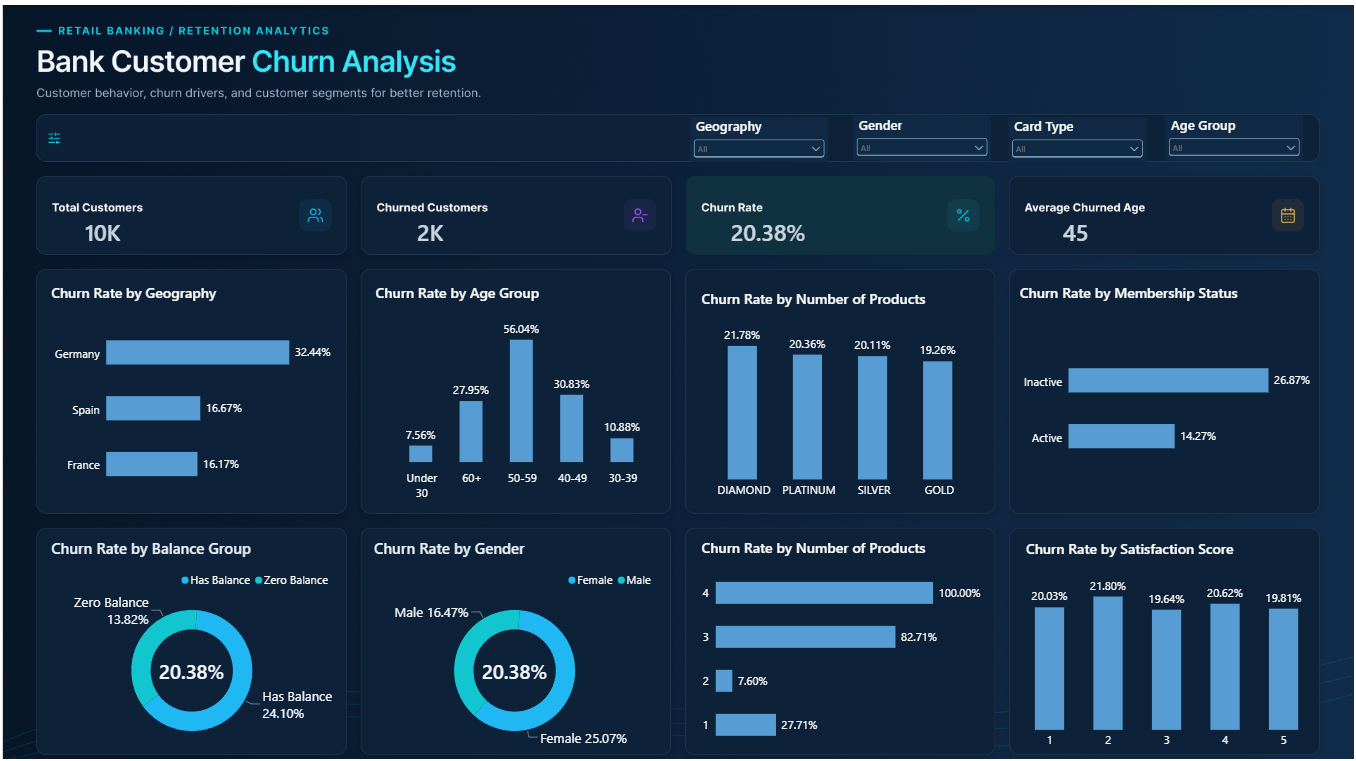

The dashboard page shown, as its layout file describes it:
{"tool":"powerbi","page":{"name":"Page 1","canvas":[1920,1080],"ordinal":0},"visuals":[{"type":"cardVisual","fields":{"Data":["raw_Customer-Churn-Records.Total Customers"]},"box":[100,285,195,80],"z":0,"group":"g1"},{"type":"group","id":"g1","title":"Group 1","box":[100,285,1545,80],"z":0},{"type":"cardVisual","fields":{"Data":["raw_Customer-Churn-Records.Churned Customers"]},"box":[572.5,285,155,80],"z":1000,"group":"g1"},{"type":"clusteredBarChart","title":"Churn Rate by Geography","fields":{"Category":["raw_Customer-Churn-Records.Geography"],"Y":["raw_Customer-Churn-Records.Churn Rate"]},"box":[52.5,380,430,342.5],"z":1000},{"type":"cardVisual","fields":{"Data":["raw_Customer-Churn-Records.Churn Rate"]},"box":[1017.5,285,155,80],"z":2000,"group":"g1"},{"type":"columnChart","title":"Churn Rate by Age Group","fields":{"Category":["raw_Customer-Churn-Records.Age Group"],"Y":["raw_Customer-Churn-Records.Churn Rate"]},"box":[512.5,380,430,342.5],"z":2000},{"type":"cardVisual","fields":{"Data":["raw_Customer-Churn-Records.Avg Churned Age"]},"box":[1490,285,155,80],"z":3000,"group":"g1"},{"type":"columnChart","title":"Churn Rate by Number of Products","fields":{"Category":["raw_Customer-Churn-Records.Card Type"],"Y":["raw_Customer-Churn-Records.Churn Rate"]},"box":[977.5,390,430,332.5],"z":3000},{"type":"clusteredBarChart","title":"Churn Rate by Membership Status","fields":{"Category":["raw_Customer-Churn-Records.Membership Status"],"Y":["raw_Customer-Churn-Records.Churn Rate"]},"box":[1430,380,445,342.5],"z":4000},{"type":"donutChart","title":"Churn Rate by Gender","fields":{"Category":["raw_Customer-Churn-Records.Gender"],"Y":["raw_Customer-Churn-Records.Churn Rate"]},"box":[511.3,742.2,431.2,332.2],"z":5000},{"type":"columnChart","title":"Churn Rate by Satisfaction Score","fields":{"Category":["raw_Customer-Churn-Records.Satisfaction Score"],"Y":["raw_Customer-Churn-Records.Churn Rate"]},"box":[1437.4,744.6,431.2,332.2],"z":6000},{"type":"clusteredBarChart","title":"Churn Rate by Number of Products","fields":{"Category":["raw_Customer-Churn-Records.NumOfProducts"],"Y":["raw_Customer-Churn-Records.Churn Rate"]},"box":[977.9,742.2,428.8,332.2],"z":7000},{"type":"donutChart","title":"Churn Rate by Balance Group","fields":{"Category":["raw_Customer-Churn-Records.Balance Group"],"Y":["raw_Customer-Churn-Records.Churn Rate"]},"box":[51.8,742.2,431.2,332.2],"z":8000},{"type":"slicer","fields":{"Values":["raw_Customer-Churn-Records.Geography"]},"box":[822.4,157.9,195.6,63.6],"z":9000},{"type":"slicer","fields":{"Values":["raw_Customer-Churn-Records.Gender"]},"box":[1095.7,157.9,195.6,63.6],"z":9001},{"type":"slicer","fields":{"Values":["raw_Customer-Churn-Records.Card Type"]},"box":[1371.4,157.9,195.6,63.6],"z":9002},{"type":"slicer","fields":{"Values":["raw_Customer-Churn-Records.Age Group"]},"box":[1644.7,157.9,195.6,63.6],"z":9003}]}

Visuals, with their boxes in screenshot pixels (x1, y1, x2, y2), scaled from the page's 1920x1080 canvas onto the 1356x761 screenshot:
cardVisual - raw_Customer-Churn-Records.Total Customers: l=71, t=201, r=208, b=257
"Group 1" group: l=71, t=201, r=1162, b=257
cardVisual - raw_Customer-Churn-Records.Churned Customers: l=404, t=201, r=514, b=257
"Churn Rate by Geography" clusteredBarChart: l=37, t=268, r=341, b=509
cardVisual - raw_Customer-Churn-Records.Churn Rate: l=719, t=201, r=828, b=257
"Churn Rate by Age Group" columnChart: l=362, t=268, r=666, b=509
cardVisual - raw_Customer-Churn-Records.Avg Churned Age: l=1052, t=201, r=1162, b=257
"Churn Rate by Number of Products" columnChart: l=690, t=275, r=994, b=509
"Churn Rate by Membership Status" clusteredBarChart: l=1010, t=268, r=1324, b=509
"Churn Rate by Gender" donutChart: l=361, t=523, r=666, b=757
"Churn Rate by Satisfaction Score" columnChart: l=1015, t=525, r=1320, b=759
"Churn Rate by Number of Products" clusteredBarChart: l=691, t=523, r=993, b=757
"Churn Rate by Balance Group" donutChart: l=37, t=523, r=341, b=757
slicer - raw_Customer-Churn-Records.Geography: l=581, t=111, r=719, b=156
slicer - raw_Customer-Churn-Records.Gender: l=774, t=111, r=912, b=156
slicer - raw_Customer-Churn-Records.Card Type: l=969, t=111, r=1107, b=156
slicer - raw_Customer-Churn-Records.Age Group: l=1162, t=111, r=1300, b=156
